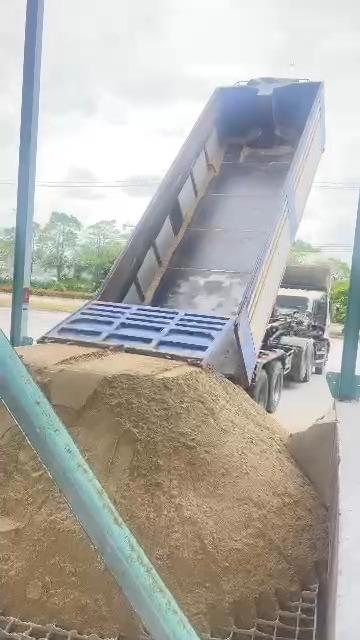sand: (22, 345, 325, 630), (0, 408, 138, 632), (289, 411, 338, 508)
